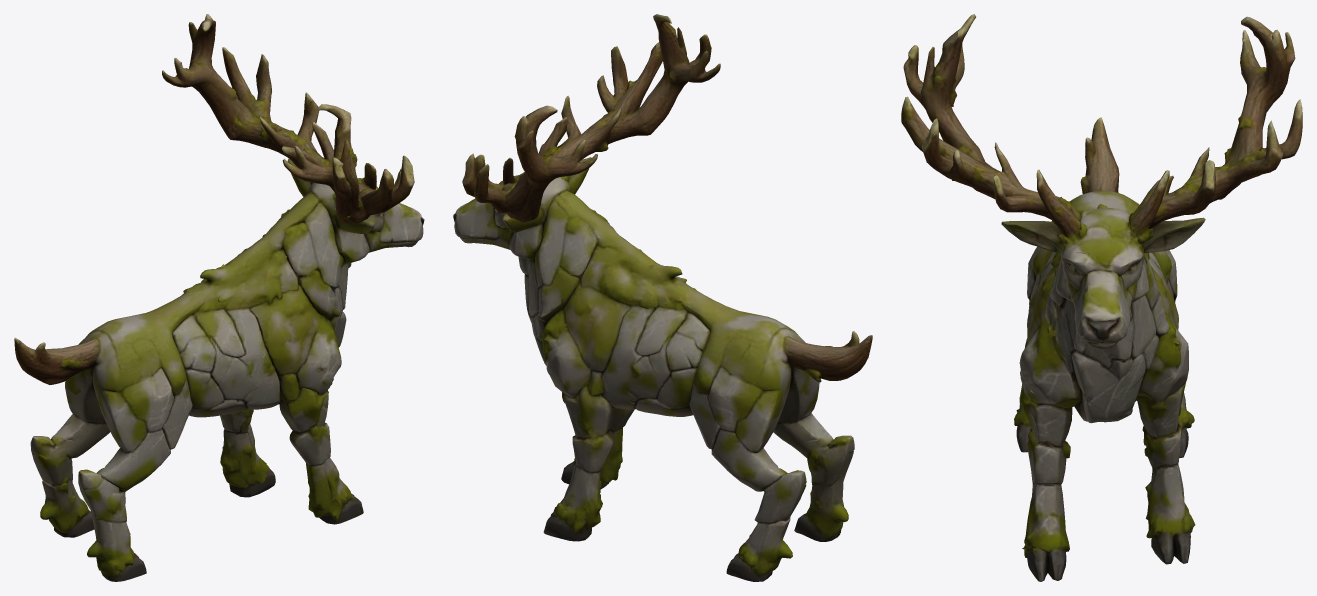
Rendered from mossStag.glb.
3 renders of one model, left to right at view 1: azimuth 30°, elevation 25°; view 2: azimuth 150°, elevation 25°; view 3: azimuth 270°, elevation 25°, orthographic. The views are drawn at different scales.
Parts seen in each view (by area): view 1: geometry_0; view 2: geometry_0; view 3: geometry_0.
Part boxes in pixels (x1,y1,x2,y2): geometry_0: (14,14,424,581); geometry_0: (453,14,872,581); geometry_0: (901,14,1302,581).
Bounding box in the file's own units: 0.9513 × 0.9986 × 0.6835.
Materials: 1 (1 with a texture image).
